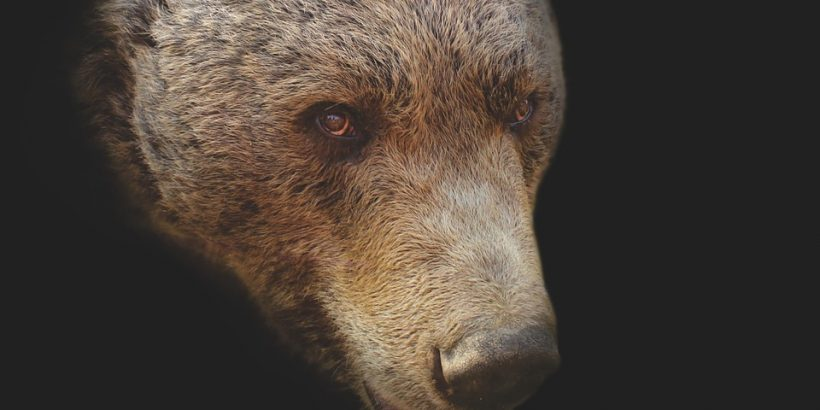bear: (72, 1, 578, 407)
